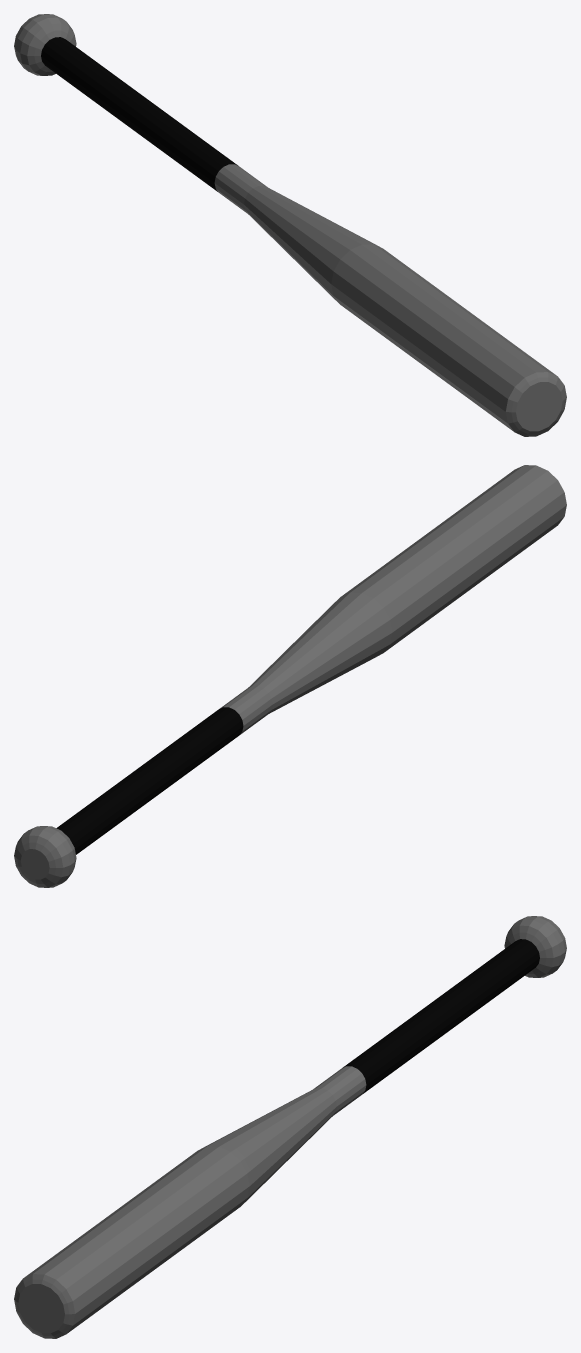
Rendered from Baseball Bat.fbx.
3 views of the same model, one above another, from view 1: azimuth 30°, elevation 25°; view 2: azimuth 150°, elevation 25°; view 3: azimuth 330°, elevation 25° (orthographic).
Visible parts, largest first — view 1: Baseball Bat; view 2: Baseball Bat; view 3: Baseball Bat.
Boxes of the visible parts, x1,y1,x2,y2 form: Baseball Bat: [14, 14, 566, 436]; Baseball Bat: [14, 465, 566, 887]; Baseball Bat: [14, 916, 566, 1338].
Size of the model in its own units: 0.0609 by 0.0609 by 0.8673.
